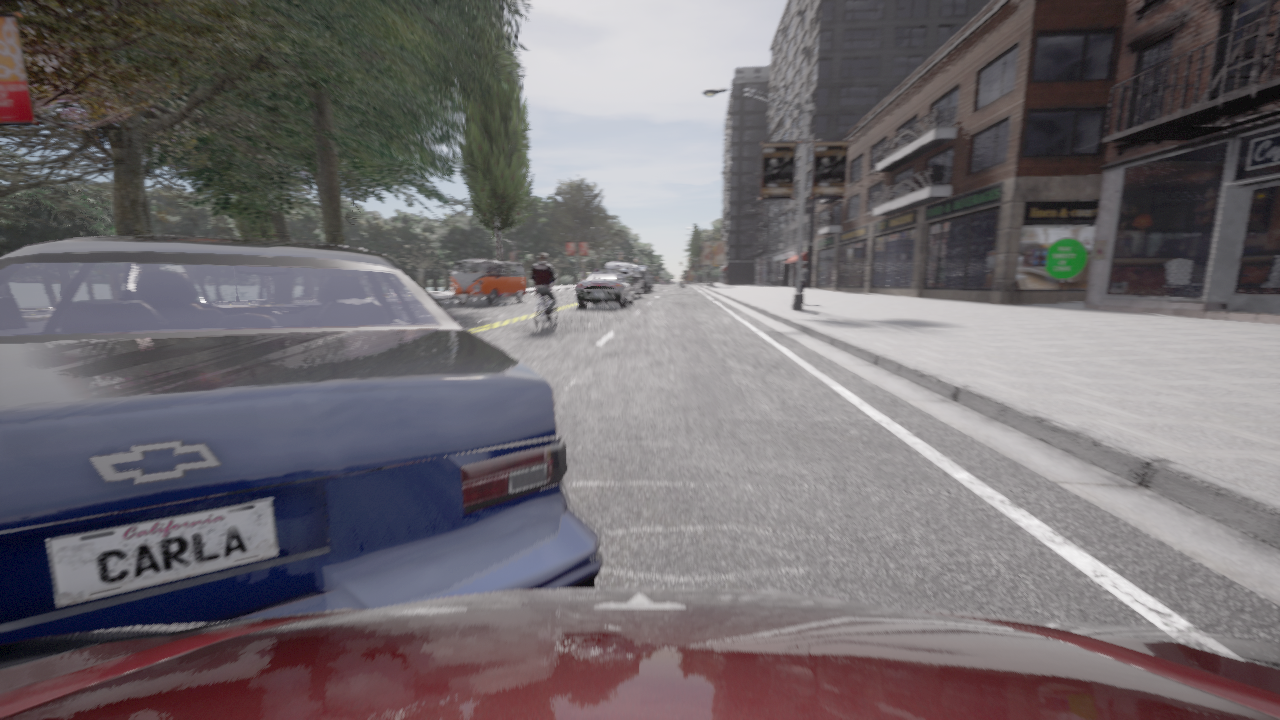cyclist: (0, 235, 606, 644), (0, 588, 1279, 719), (450, 259, 527, 305), (575, 270, 633, 307), (606, 262, 643, 298), (534, 286, 555, 331), (638, 266, 653, 293), (679, 279, 684, 288)
pedestrian: (800, 263, 807, 303)
